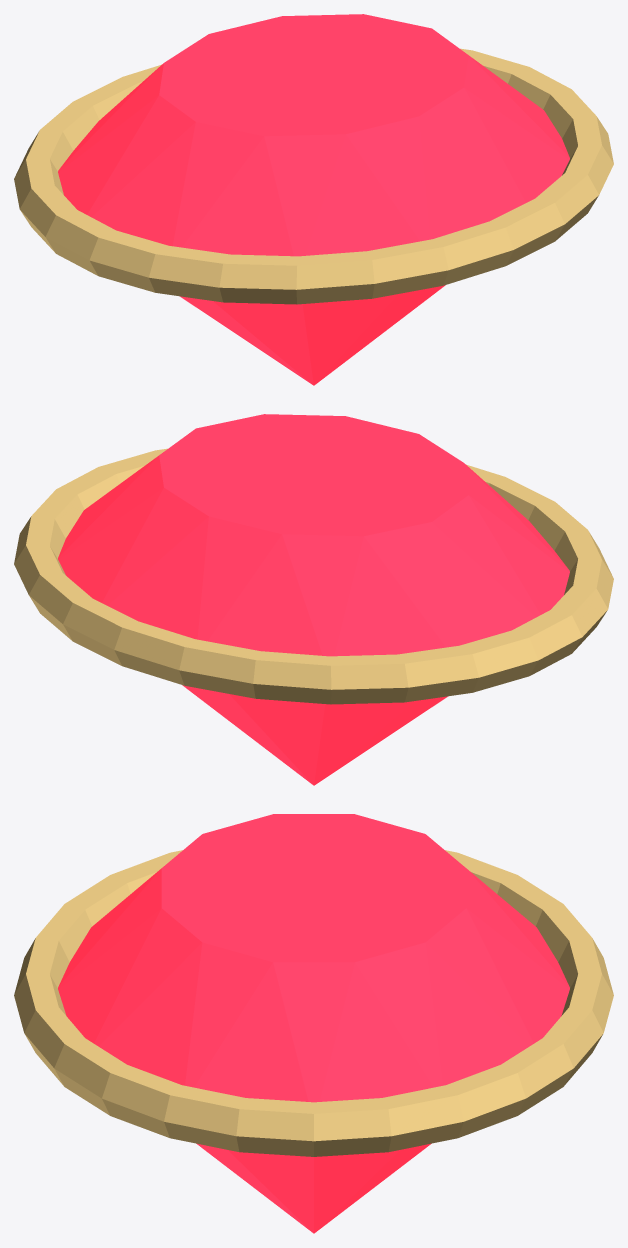
The model's file is gem_ruby_royal.glb.
The picture shows the model from 3 angles, top to bottom: view 1: azimuth 30°, elevation 25°; view 2: azimuth 150°, elevation 25°; view 3: azimuth 270°, elevation 25°; orthographic projection. The views are drawn at different scales.
Parts seen in each view (by area): view 1: gem_ruby_5, Torus; view 2: gem_ruby_5, Torus; view 3: gem_ruby_5, Torus.
Boxes of the visible parts, x1,y1,x2,y2 form: gem_ruby_5: (58,14,569,385); Torus: (14,48,613,304); gem_ruby_5: (58,414,569,785); Torus: (14,448,613,704); gem_ruby_5: (58,814,569,1233); Torus: (14,850,613,1156).
Bounding box in the file's own units: 0.1509 × 0.0834 × 0.1312.
